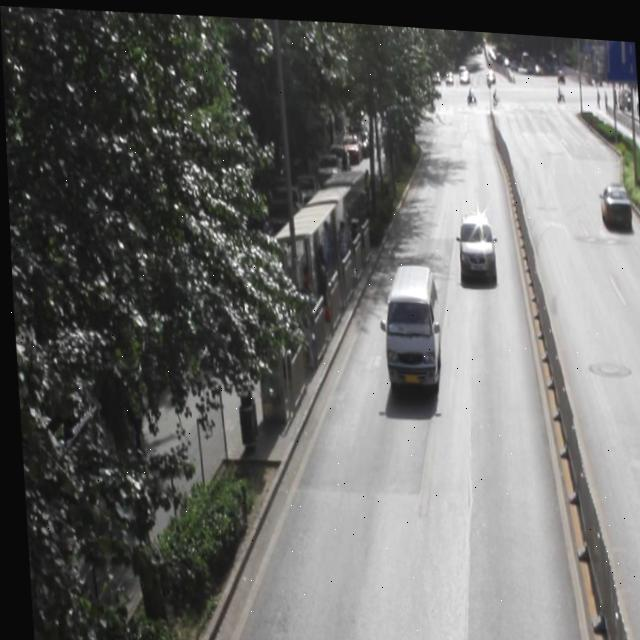car: (452, 207, 493, 272), (595, 172, 628, 221)
truck: (375, 255, 441, 386)
